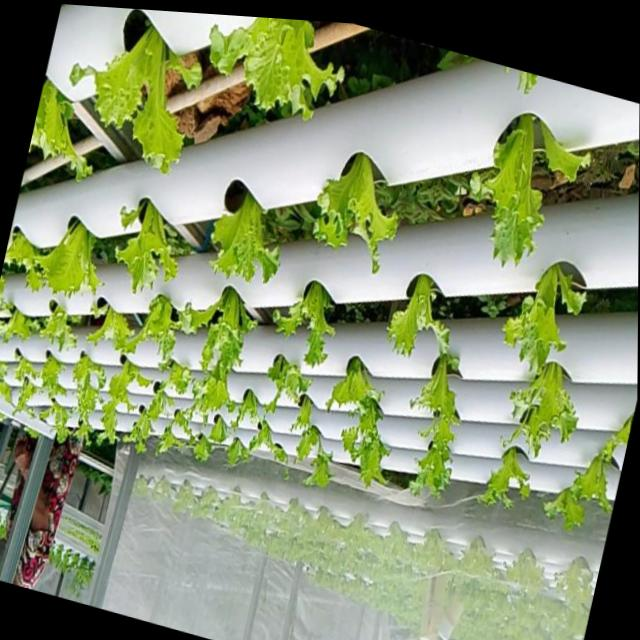Baby: (65, 28, 197, 175), (205, 17, 339, 120), (468, 113, 540, 266), (310, 152, 396, 273), (500, 263, 582, 373), (408, 344, 457, 496), (207, 179, 277, 282), (504, 361, 575, 456), (112, 198, 177, 292), (112, 293, 188, 364), (33, 220, 99, 300), (271, 280, 332, 366), (385, 273, 446, 356), (340, 399, 386, 486), (566, 439, 615, 511), (249, 353, 309, 411), (323, 355, 380, 410), (476, 446, 527, 506), (69, 352, 103, 437), (189, 360, 233, 420), (37, 402, 69, 442), (37, 355, 62, 398), (163, 361, 188, 395), (12, 377, 35, 412), (166, 408, 189, 436)
